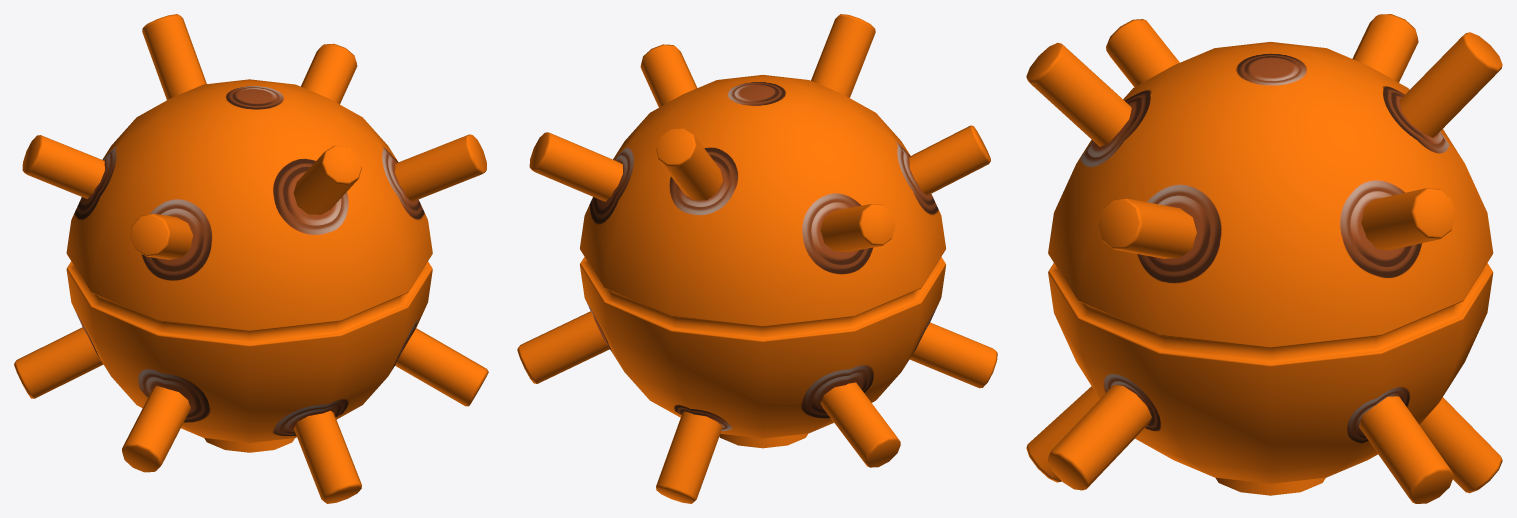
Rendered from MEC0110035.fbx.
3 views of the same model, side by side, from view 1: azimuth 30°, elevation 25°; view 2: azimuth 150°, elevation 25°; view 3: azimuth 270°, elevation 25° (orthographic). The views are drawn at different scales.
Visible parts, largest first — view 1: smMEC0110035; view 2: smMEC0110035; view 3: smMEC0110035.
Part boxes in pixels (<box>): smMEC0110035: <box>14,14,488,503</box>; smMEC0110035: <box>517,14,997,503</box>; smMEC0110035: <box>1026,14,1502,503</box>.
Bounding box in the file's own units: 129 × 126 × 119.
Materials: 1 (1 with a texture image).
